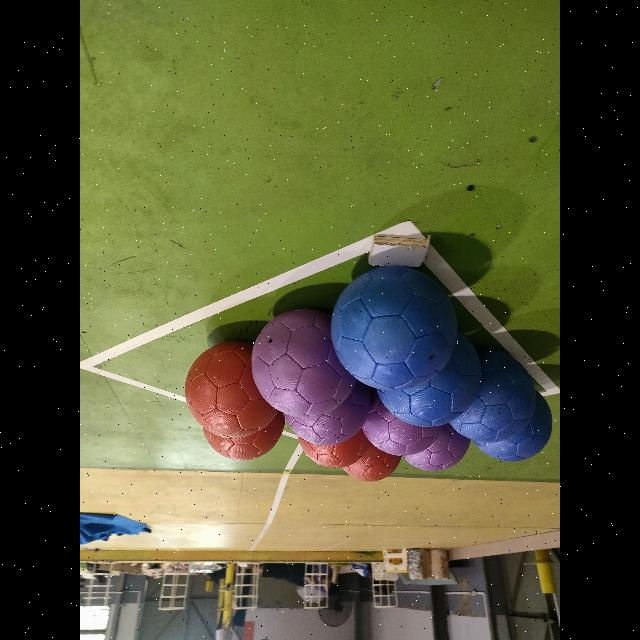B: (331, 266, 457, 390), (451, 349, 535, 443)
P: (251, 310, 355, 420), (286, 375, 368, 451), (363, 392, 443, 456), (406, 411, 468, 474)
R: (185, 342, 275, 438), (205, 392, 288, 462), (344, 443, 400, 482)
S: (82, 558, 126, 612), (156, 559, 190, 619), (366, 560, 402, 612), (298, 558, 330, 612), (232, 560, 264, 614)
